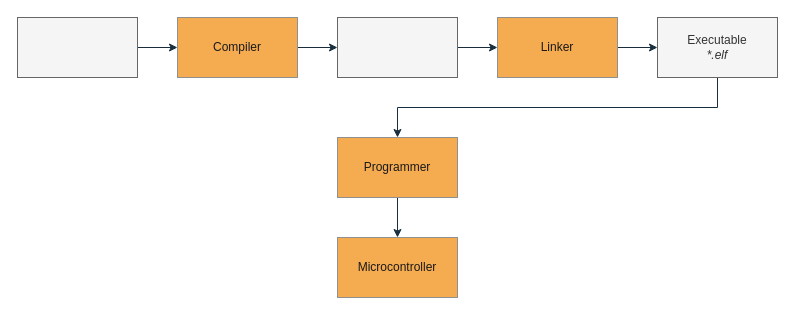
Image size: 795x315. Some labels were removed from this diagram. Here are the shapes that lost their labels. From the top down, the centre of each, then its label:
point (77, 47): Source code *.c, *.cpp, *.s
point (397, 47): Object files *.o
